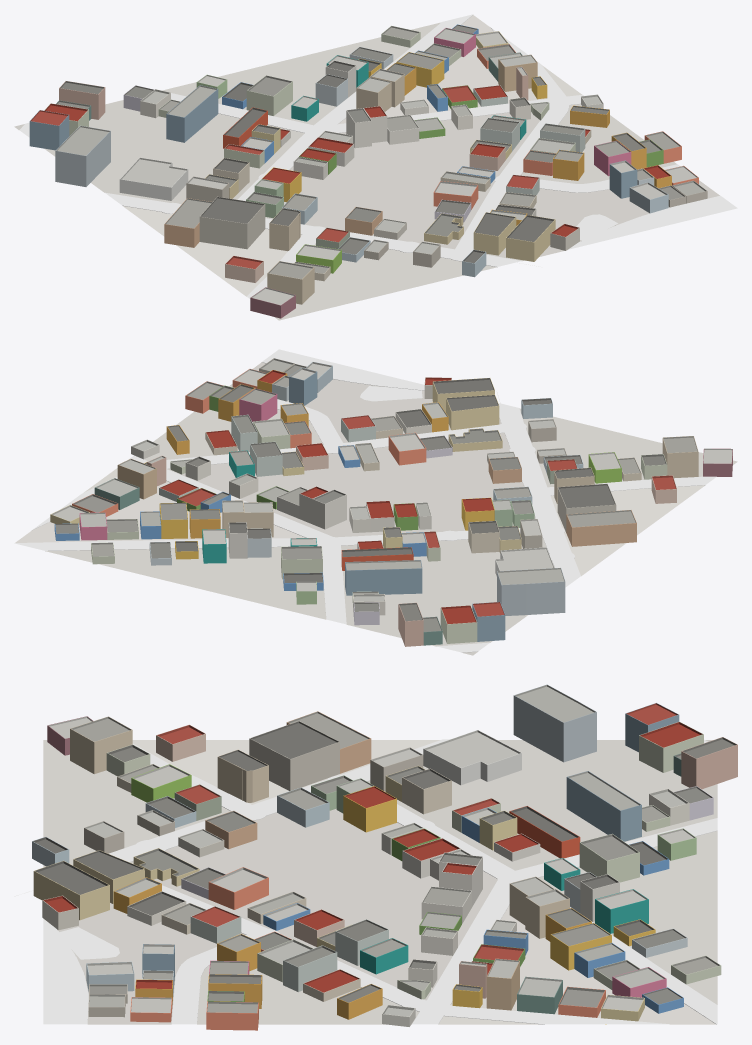
3 views of the same model, one above another, from view 1: azimuth 30°, elevation 25°; view 2: azimuth 150°, elevation 25°; view 3: azimuth 270°, elevation 25° (orthographic). The views are drawn at different scales.
Parts seen in each view (by area): view 1: walls, ground, roofs, sidewalk, plaza; view 2: walls, ground, roofs, sidewalk, plaza; view 3: walls, ground, roofs, sidewalk, plaza.
Boxes of the visible parts, x1,y1,x2,y2 form: walls: (29,29,707,318); ground: (14,15,719,320); roofs: (30,24,706,305); sidewalk: (19,14,737,298); plaza: (576,214,617,240); walls: (50,363,732,646); ground: (15,362,737,655); roofs: (51,358,732,632); sidewalk: (14,349,716,652); plaza: (360,386,422,401); walls: (32,695,737,1030); ground: (43,740,717,1024); roofs: (32,684,737,1016); sidewalk: (43,739,717,1024); plaza: (59,927,119,959).
Size of what is drawn, in the model's own units: 269 by 16.18 by 268.
